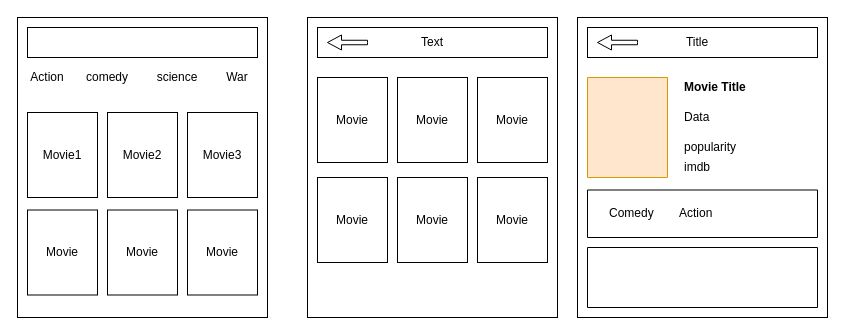
This 845x335 diagram has some shape labels left out. The shapes that lost their labels are listed below. From the top down, each one's centre as x and y in pixels, then its label:
At point (142, 42): "Search".
At point (702, 277): "Info".
